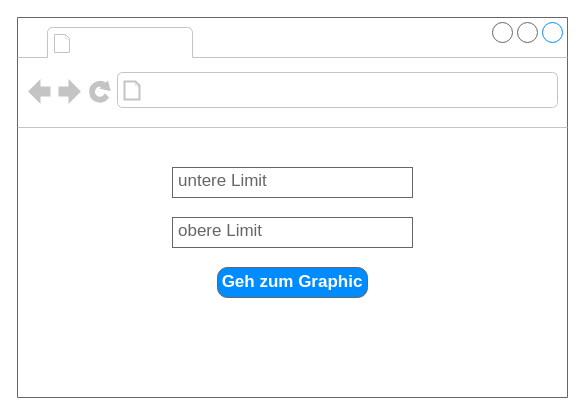
Some shapes in this 585 by 415 pixel diagram are drawn without their labels. The centre of each missing label's shape, as x and y in pixels:
"https://www.Grenzwerte.de" goes at point (272, 90).
"Page 1" goes at point (132, 42).
